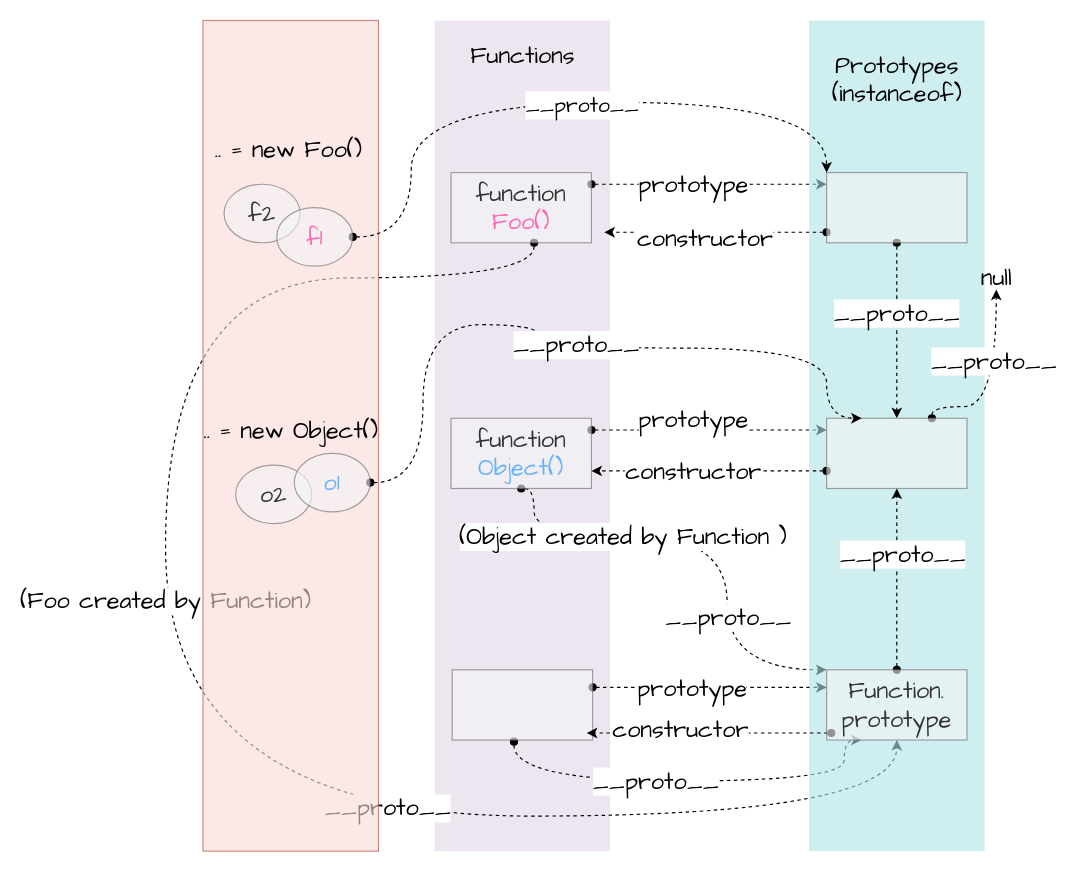
The diagram is 1076 pixels wide and 872 high, and some of its shapes have lost their labels. Here are the shapes that lost their labels. From the top down, the box of each, then its label:
(825, 171, 967, 243): Foo. prototype
(825, 417, 967, 488): Object. prototype
(451, 669, 593, 740): function Function()
